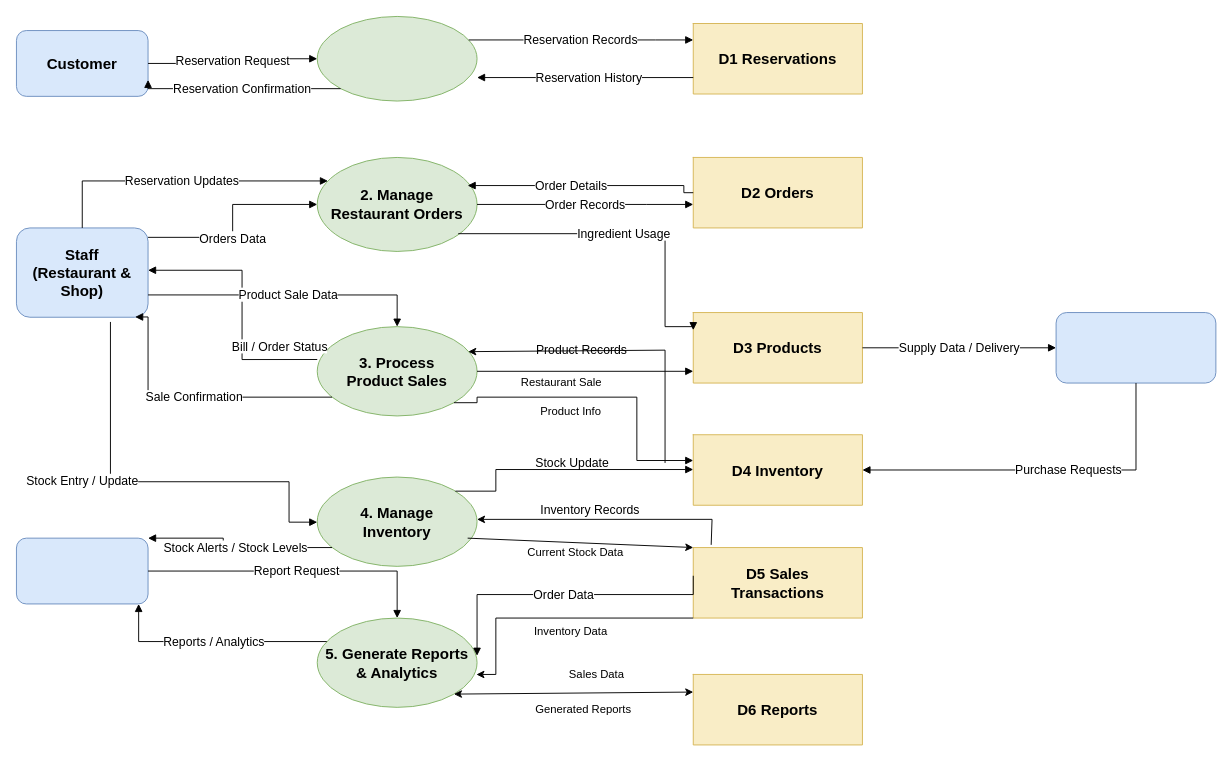
Image size: 1232x761. Some labels were removed from this diagram. The centre of each missing label's shape, as x and y in pixels:
"1. Manage Reservations" belongs at pixel 396 58.
"Manager" belongs at pixel 82 570.
"Supplier / Farmers" belongs at pixel 1135 347.
